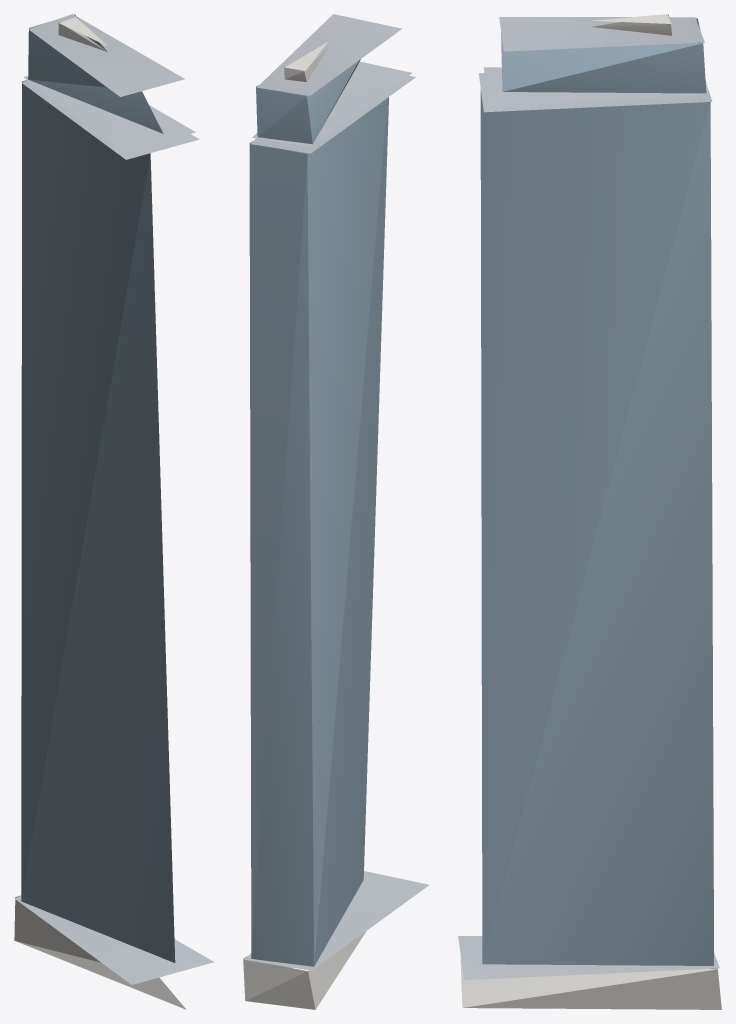
File: tower_06_lod1.glb
The picture shows the model from 3 angles, left to right: view 1: azimuth 30°, elevation 25°; view 2: azimuth 150°, elevation 25°; view 3: azimuth 270°, elevation 25°; orthographic projection. The views are drawn at different scales.
Parts seen in each view (by area): view 1: tower_06_lod1; view 2: tower_06_lod1; view 3: tower_06_lod1.
Boxes of the visible parts, x1,y1,x2,y2 form: tower_06_lod1: (14, 14, 214, 1009); tower_06_lod1: (243, 14, 428, 1009); tower_06_lod1: (458, 14, 721, 1009).
Bounding box in the file's own units: 31.6 × 321 × 78.48.
